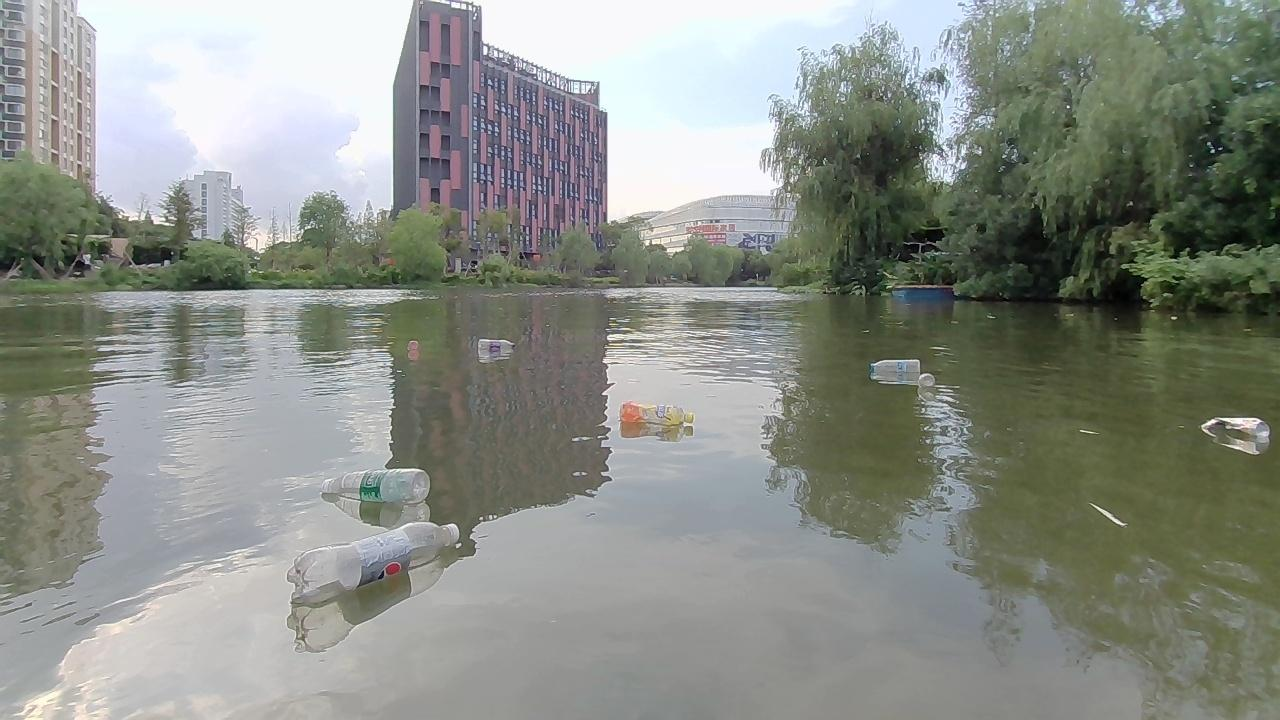bottle: (286, 522, 463, 608), (315, 465, 431, 509), (615, 397, 698, 433), (1199, 412, 1269, 452), (862, 356, 919, 378), (473, 337, 518, 355), (914, 369, 938, 391), (404, 337, 421, 353)
